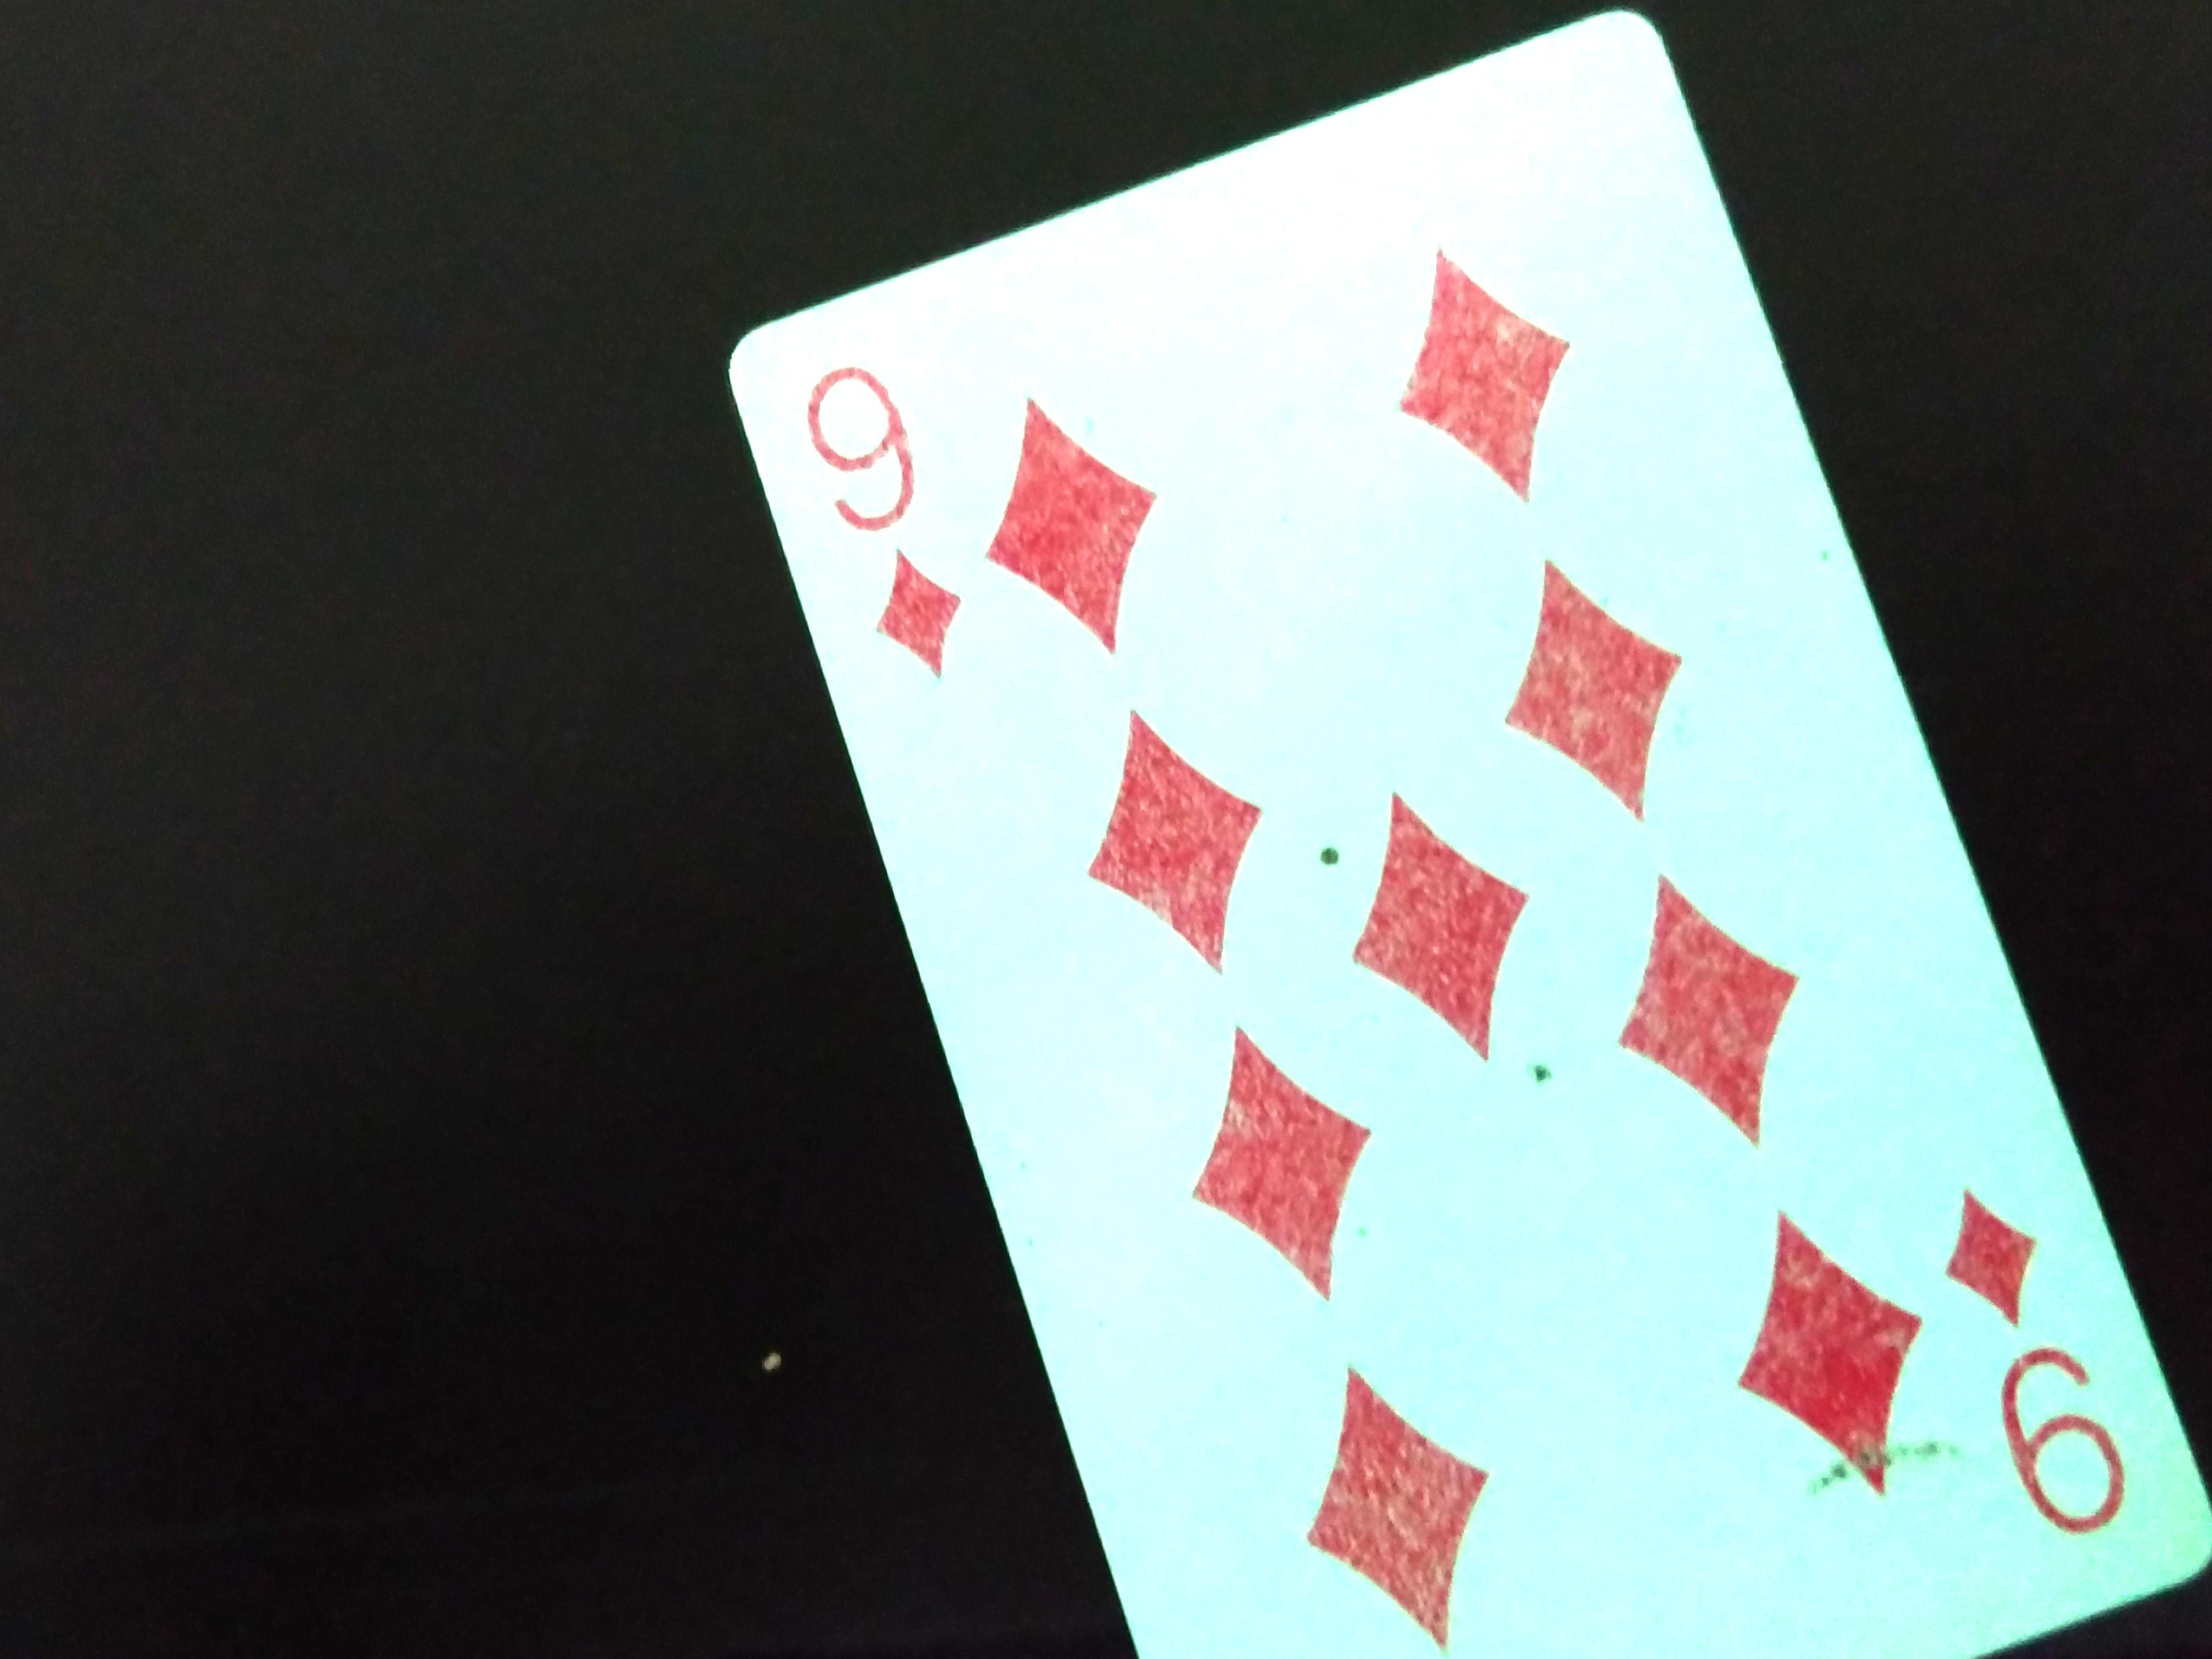9D: (777, 355, 1022, 720)
